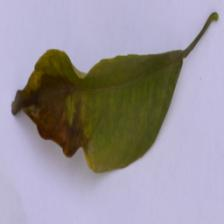black spot: (19, 68, 79, 153)
